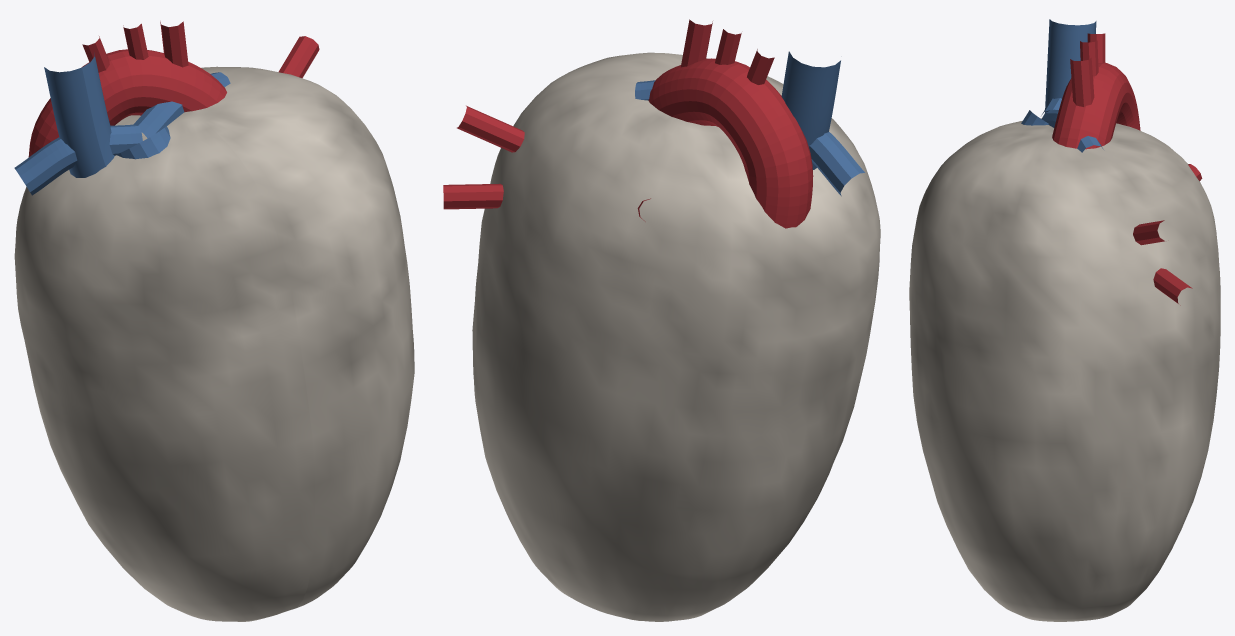
File: heart.glb
3 views of the same model, side by side, from view 1: azimuth 30°, elevation 25°; view 2: azimuth 150°, elevation 25°; view 3: azimuth 270°, elevation 25° (orthographic). The views are drawn at different scales.
Parts seen in each view (by area): view 1: pericardium, aorta, superior_vena_cava, pulmonary_artery, pulmonary_veins; view 2: pericardium, aorta, superior_vena_cava, pulmonary_veins, pulmonary_artery; view 3: pericardium, aorta, superior_vena_cava, pulmonary_veins, pulmonary_artery.
Boxes of the visible parts, box(x1,y1,x2,y2) form: pericardium: box(14, 66, 414, 621); aorta: box(28, 21, 226, 157); superior_vena_cava: box(44, 53, 114, 177); pulmonary_artery: box(14, 72, 230, 195); pulmonary_veins: box(278, 36, 319, 78); pericardium: box(472, 52, 880, 621); aorta: box(648, 19, 813, 228); superior_vena_cava: box(781, 51, 840, 169); pulmonary_veins: box(443, 105, 650, 221); pulmonary_artery: box(635, 80, 864, 196); pericardium: box(909, 118, 1220, 621); aorta: box(1052, 33, 1140, 149); superior_vena_cava: box(1045, 19, 1096, 112); pulmonary_veins: box(1133, 164, 1202, 305); pulmonary_artery: box(1021, 98, 1103, 152).
Bounding box in the file's own units: 1.92 × 2.97 × 1.59.
